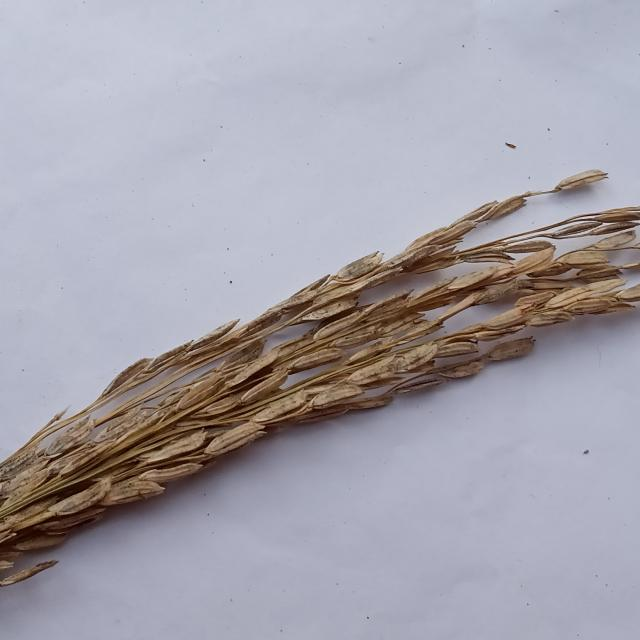Neck_Blast: (0, 161, 640, 606)
